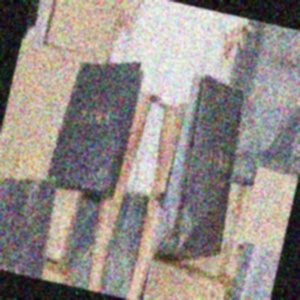zara: (99, 72, 300, 216), (58, 33, 300, 98), (77, 52, 151, 157)
